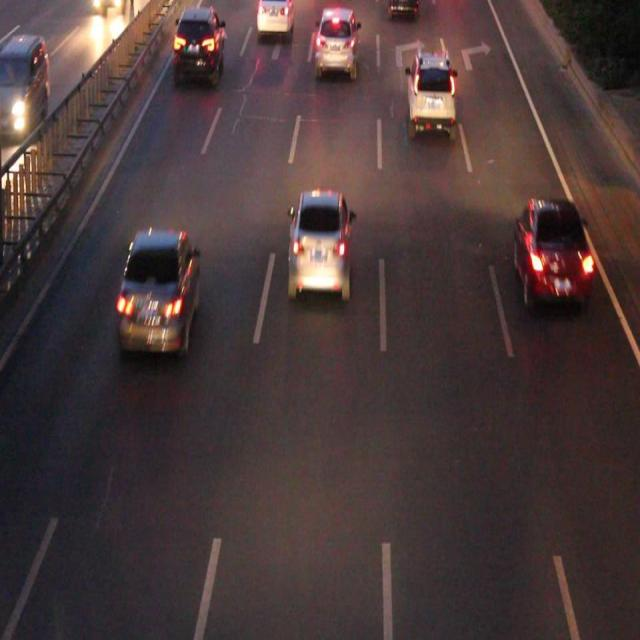car: (120, 231, 198, 346), (512, 203, 587, 303), (288, 194, 350, 290), (407, 56, 453, 132), (176, 10, 222, 73), (316, 10, 357, 69), (257, 1, 292, 29), (389, 2, 416, 15)
